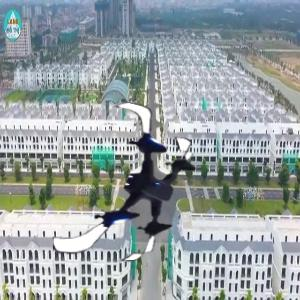drone: (52, 100, 218, 266)
